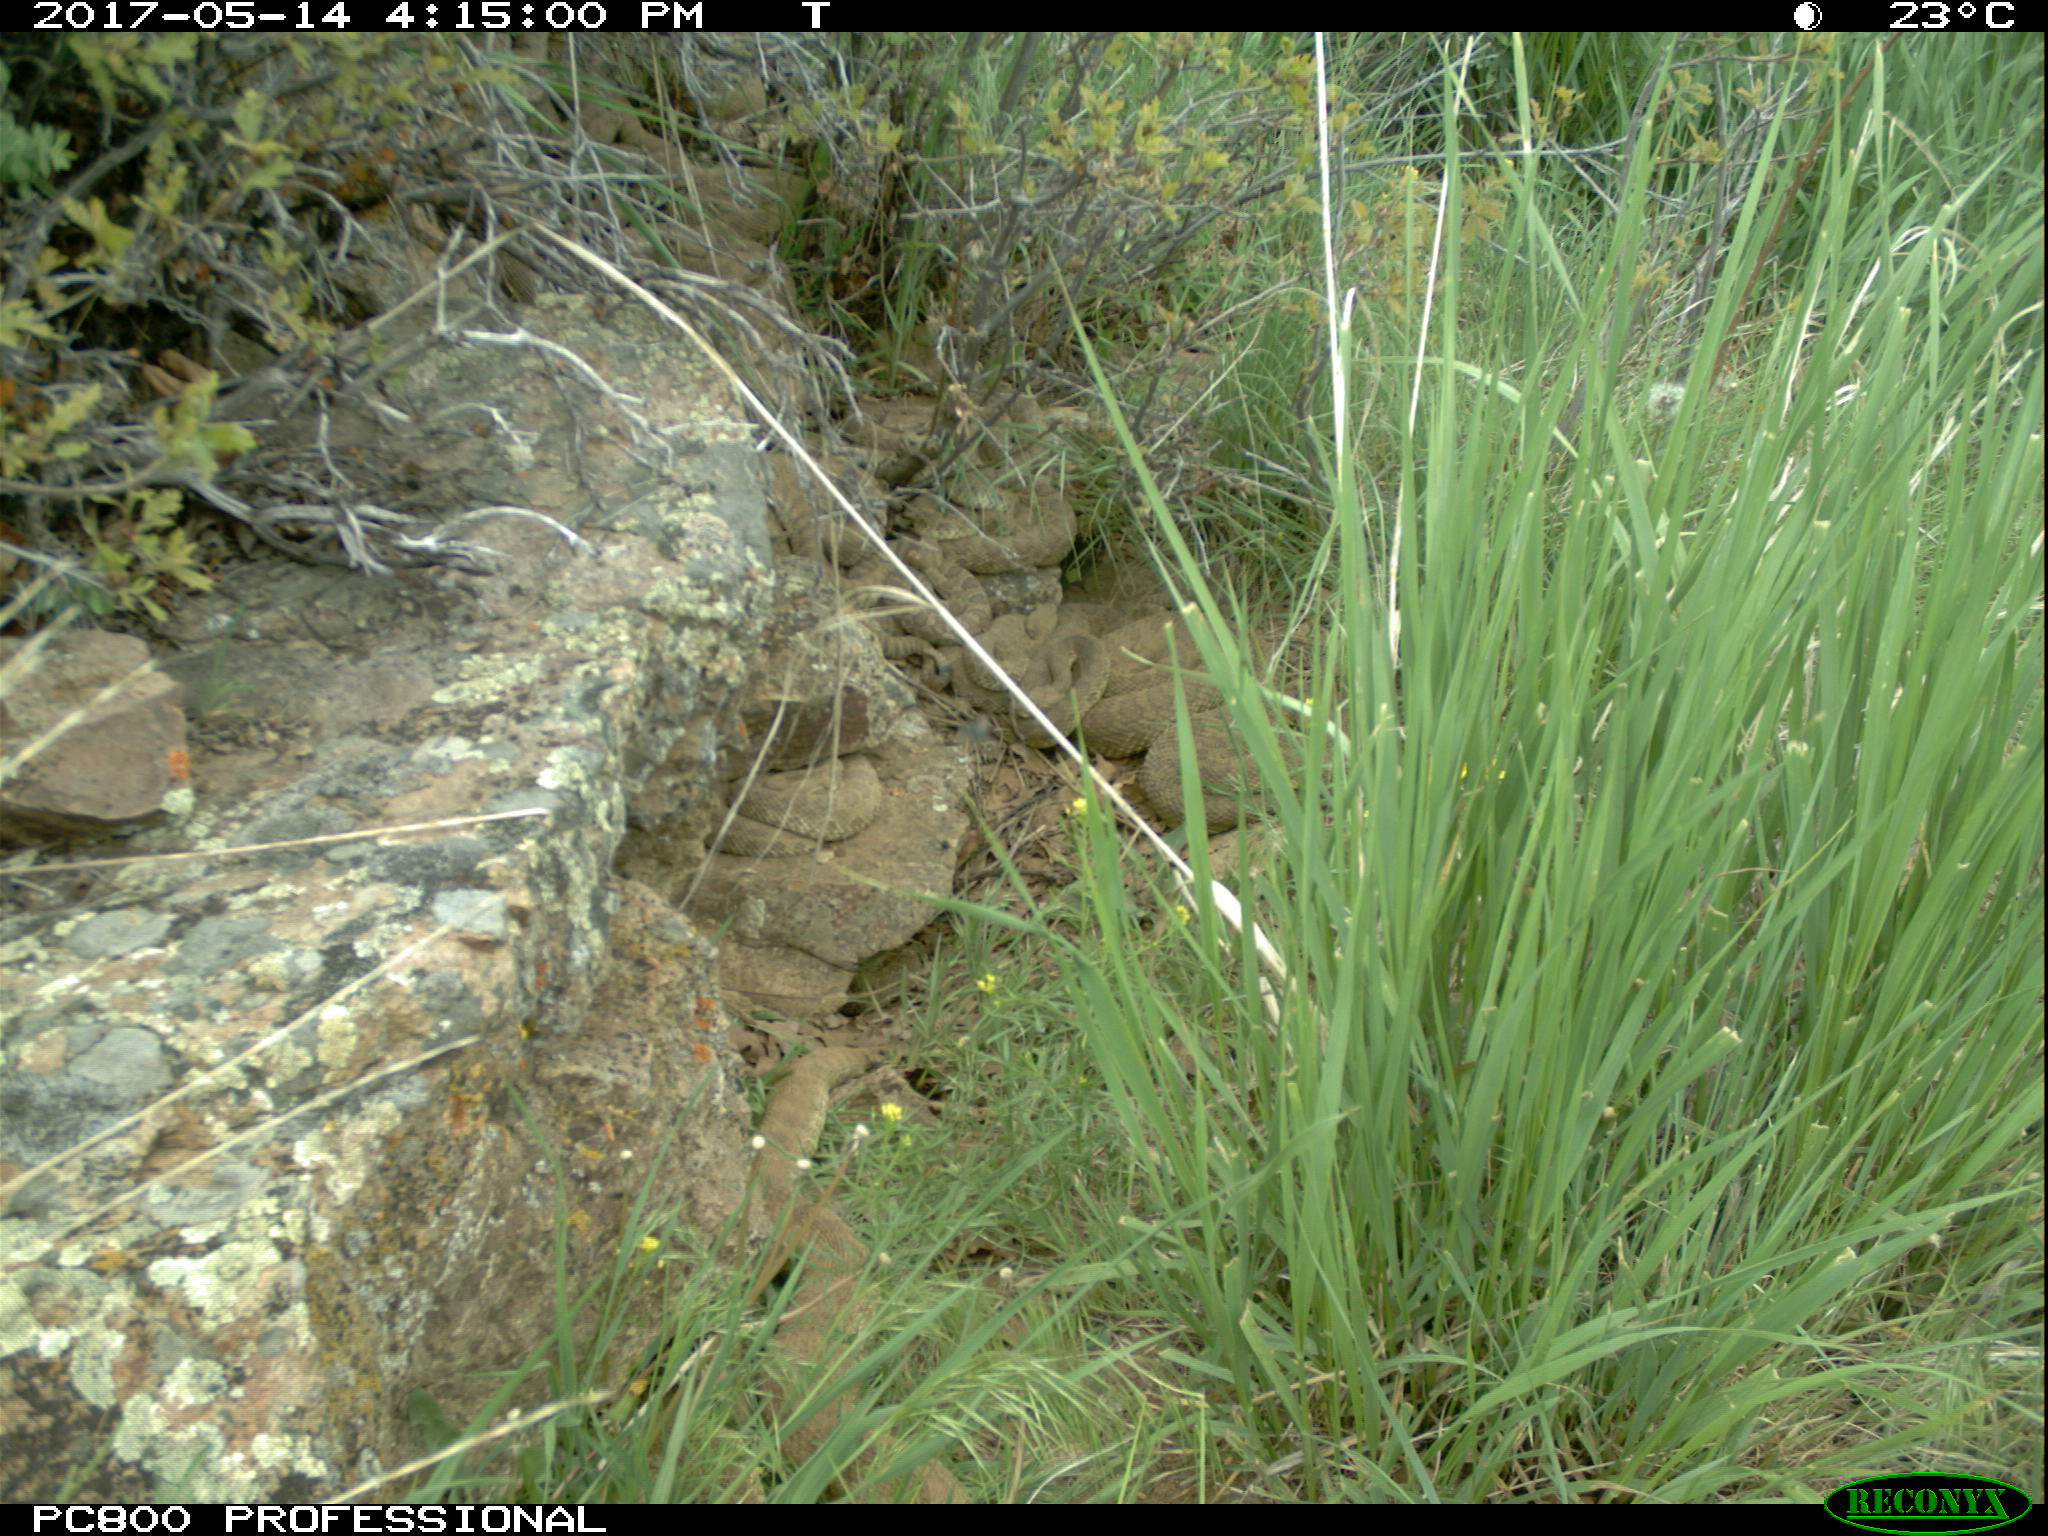snake: (753, 1037, 900, 1492), (1089, 608, 1276, 745), (1140, 712, 1322, 828), (708, 750, 885, 857), (753, 452, 887, 565), (874, 532, 1000, 645), (1006, 629, 1113, 749), (947, 474, 1074, 561), (964, 597, 1055, 707), (581, 102, 684, 163)
